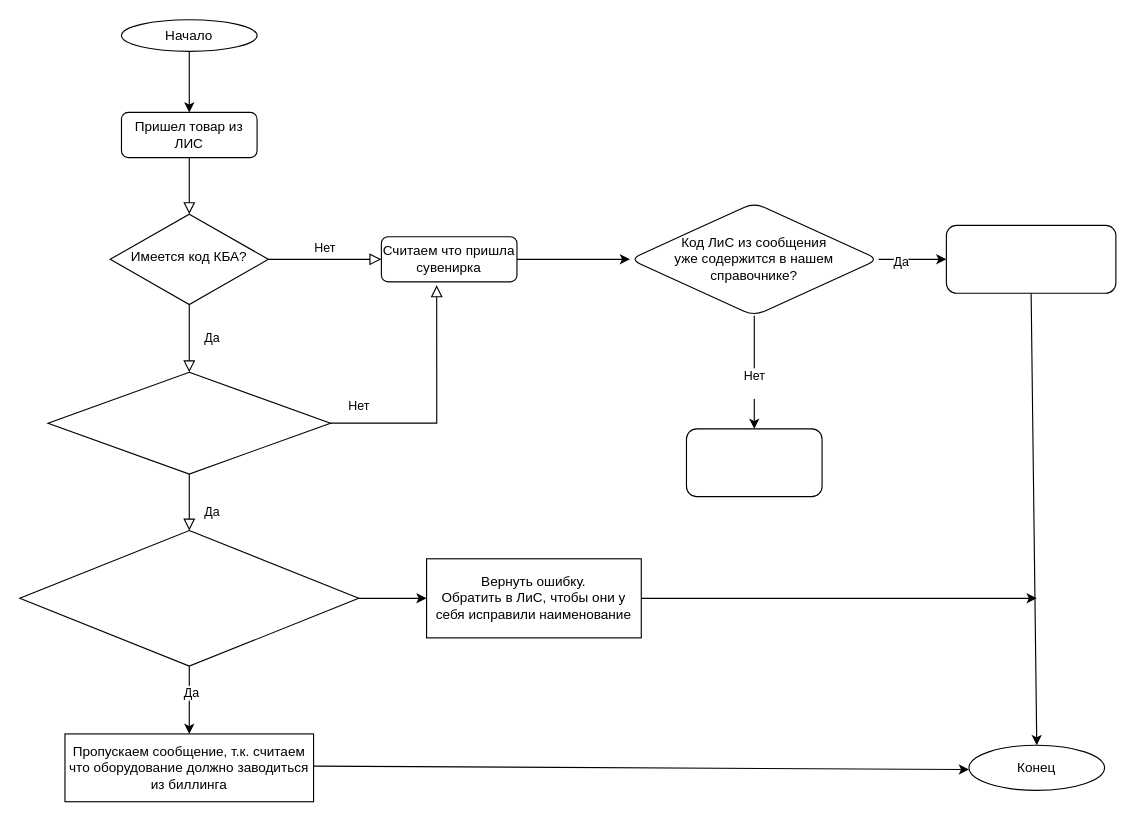
The diagram is 1136 pixels wide and 822 high, and some of its shapes have lost their labels. Each missing label, with the centre of its shape:
"Есть ли оборудование в биллинге с таким кодом КБА" belongs at point (189, 422).
"Изменить наименование и код КБА в существующем товаре" belongs at point (1030, 258).
"Совпадает ли наименование товара в сообщении с биллинговым?" belongs at point (189, 597).
"Создать новый товар в справочнике" belongs at point (753, 462).
